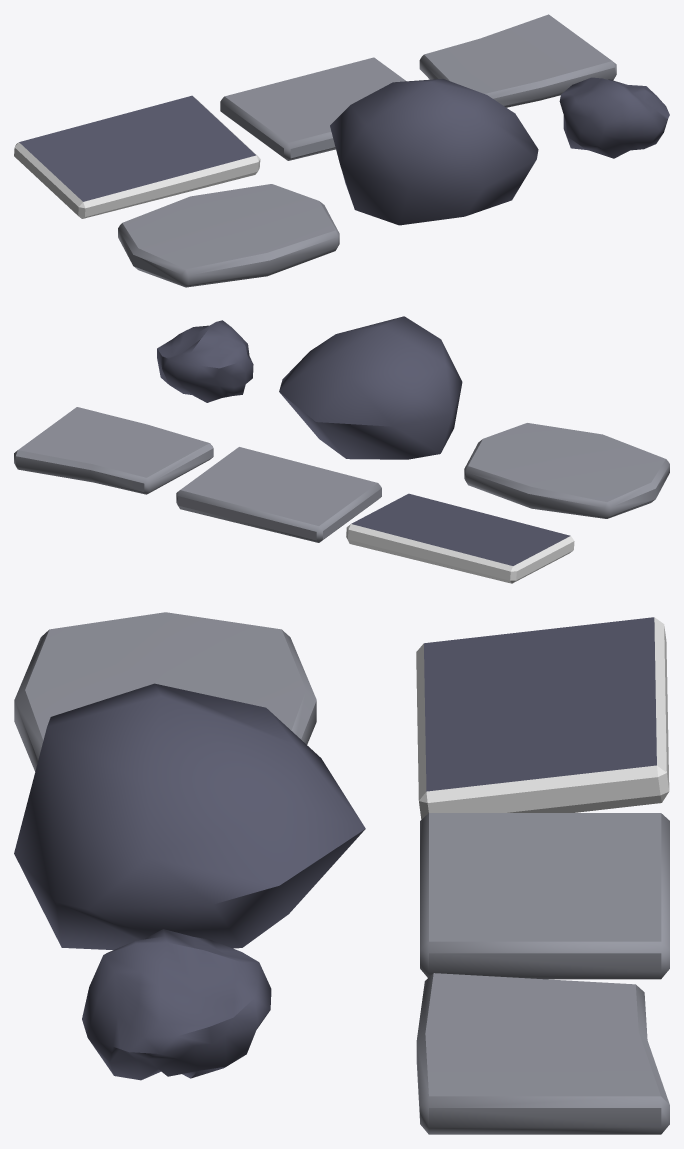
Rendered from pedras_chao.fbx.
3 views of the same model, one above another, from view 1: azimuth 30°, elevation 25°; view 2: azimuth 150°, elevation 25°; view 3: azimuth 270°, elevation 25° (orthographic). The views are drawn at different scales.
Parts seen in each view (by area): view 1: stone_1, small_rock_1, small_rock_4, small_rock_3, small_rock_2, stone_2; view 2: stone_1, small_rock_4, small_rock_2, small_rock_1, small_rock_3, stone_2; view 3: stone_1, small_rock_1, small_rock_2, small_rock_3, small_rock_4, stone_2.
Boxes of the visible parts, x1,y1,x2,y2 form: stone_1: (330, 79, 538, 225); small_rock_1: (14, 95, 260, 218); small_rock_4: (118, 184, 339, 287); small_rock_3: (419, 14, 616, 107); small_rock_2: (220, 57, 406, 160); stone_2: (559, 77, 669, 158); stone_1: (279, 316, 462, 459); small_rock_4: (464, 423, 669, 518); small_rock_2: (176, 447, 381, 542); small_rock_1: (346, 493, 574, 583); small_rock_3: (14, 407, 213, 494); stone_2: (157, 320, 253, 402); stone_1: (14, 683, 365, 949); small_rock_1: (416, 617, 669, 819); small_rock_2: (420, 813, 669, 979); small_rock_3: (416, 973, 669, 1134); small_rock_4: (14, 612, 316, 771); stone_2: (82, 929, 271, 1080).
Size of the model in its own units: 583 by 124 by 327.
